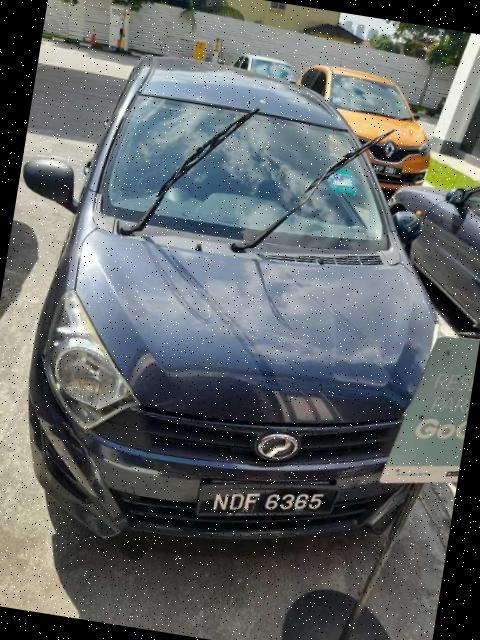License_Plate: (194, 466, 340, 539)
car: (1, 35, 480, 594), (284, 60, 443, 204)
